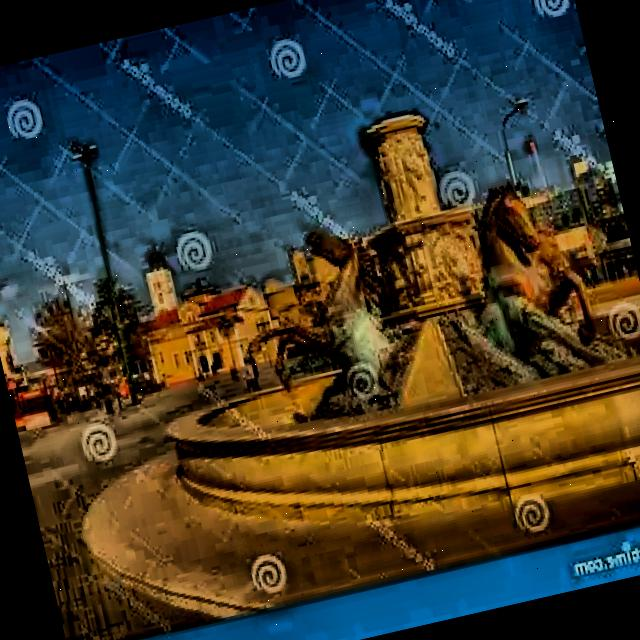Philip II of Macedonia: (0, 259, 33, 421)
